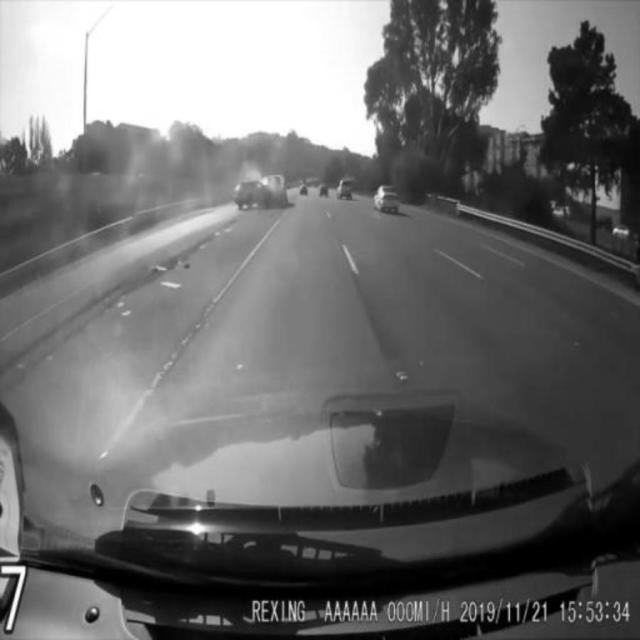accident: (229, 172, 293, 216)
vehicle: (372, 179, 406, 215), (332, 175, 356, 201), (316, 184, 334, 201)
